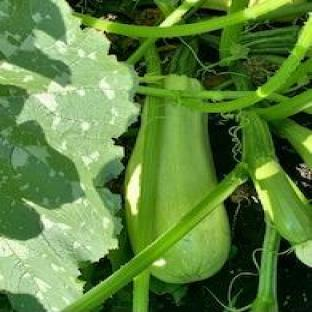Zucchini: (125, 100, 215, 251), (242, 112, 311, 266), (272, 119, 311, 167)
